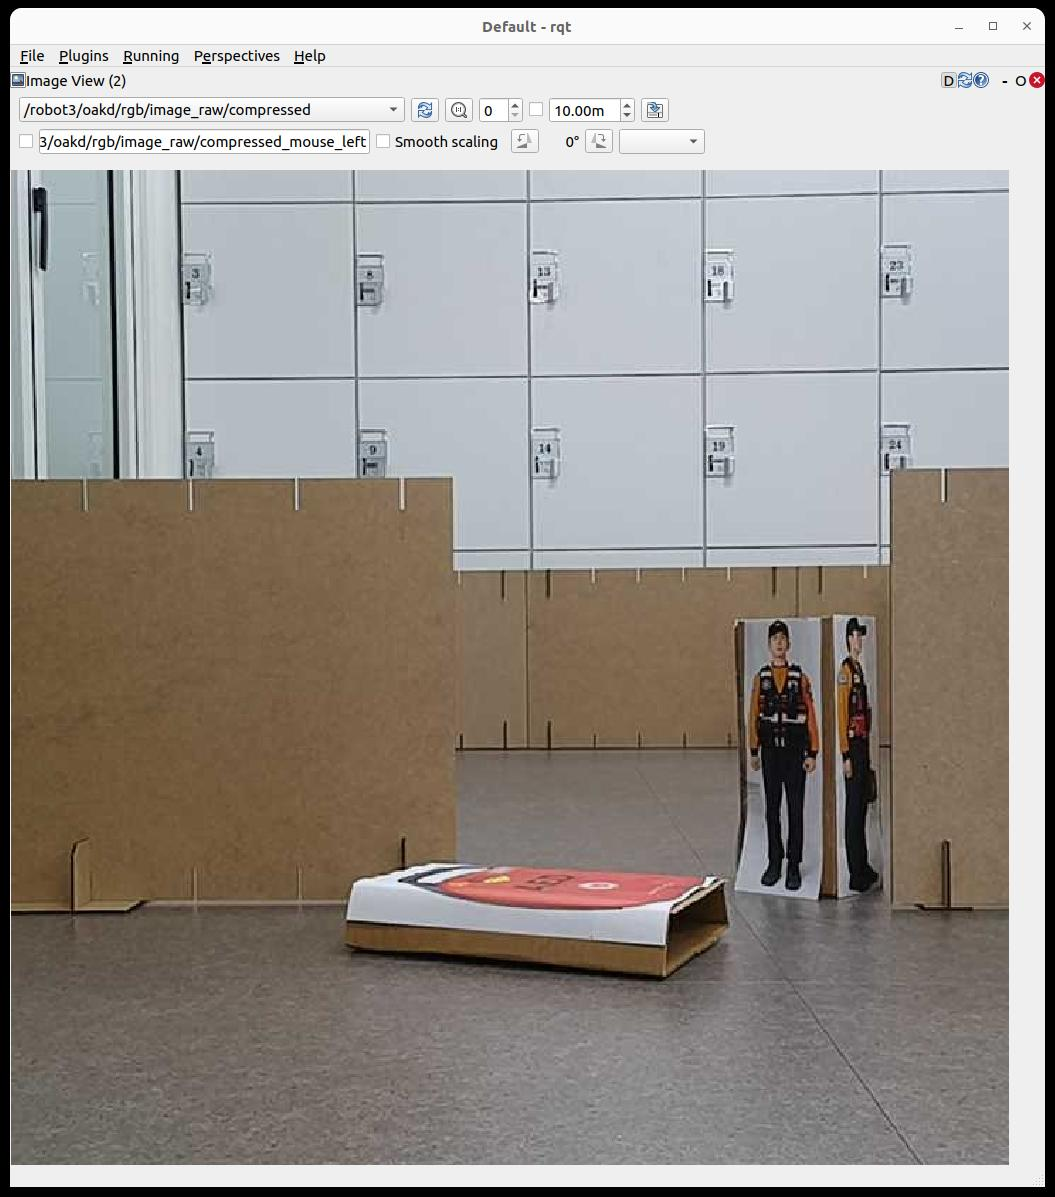AED: (346, 862, 727, 977)
Responder: (748, 621, 818, 890), (837, 620, 877, 892)
